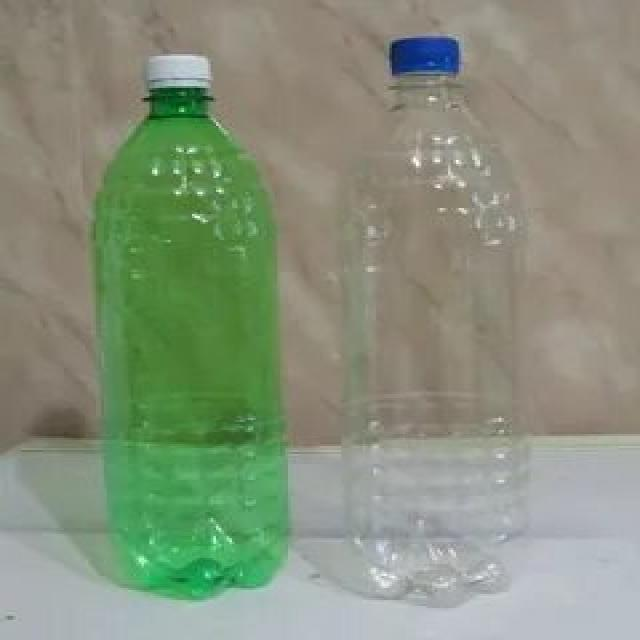green: (96, 91, 280, 602)
